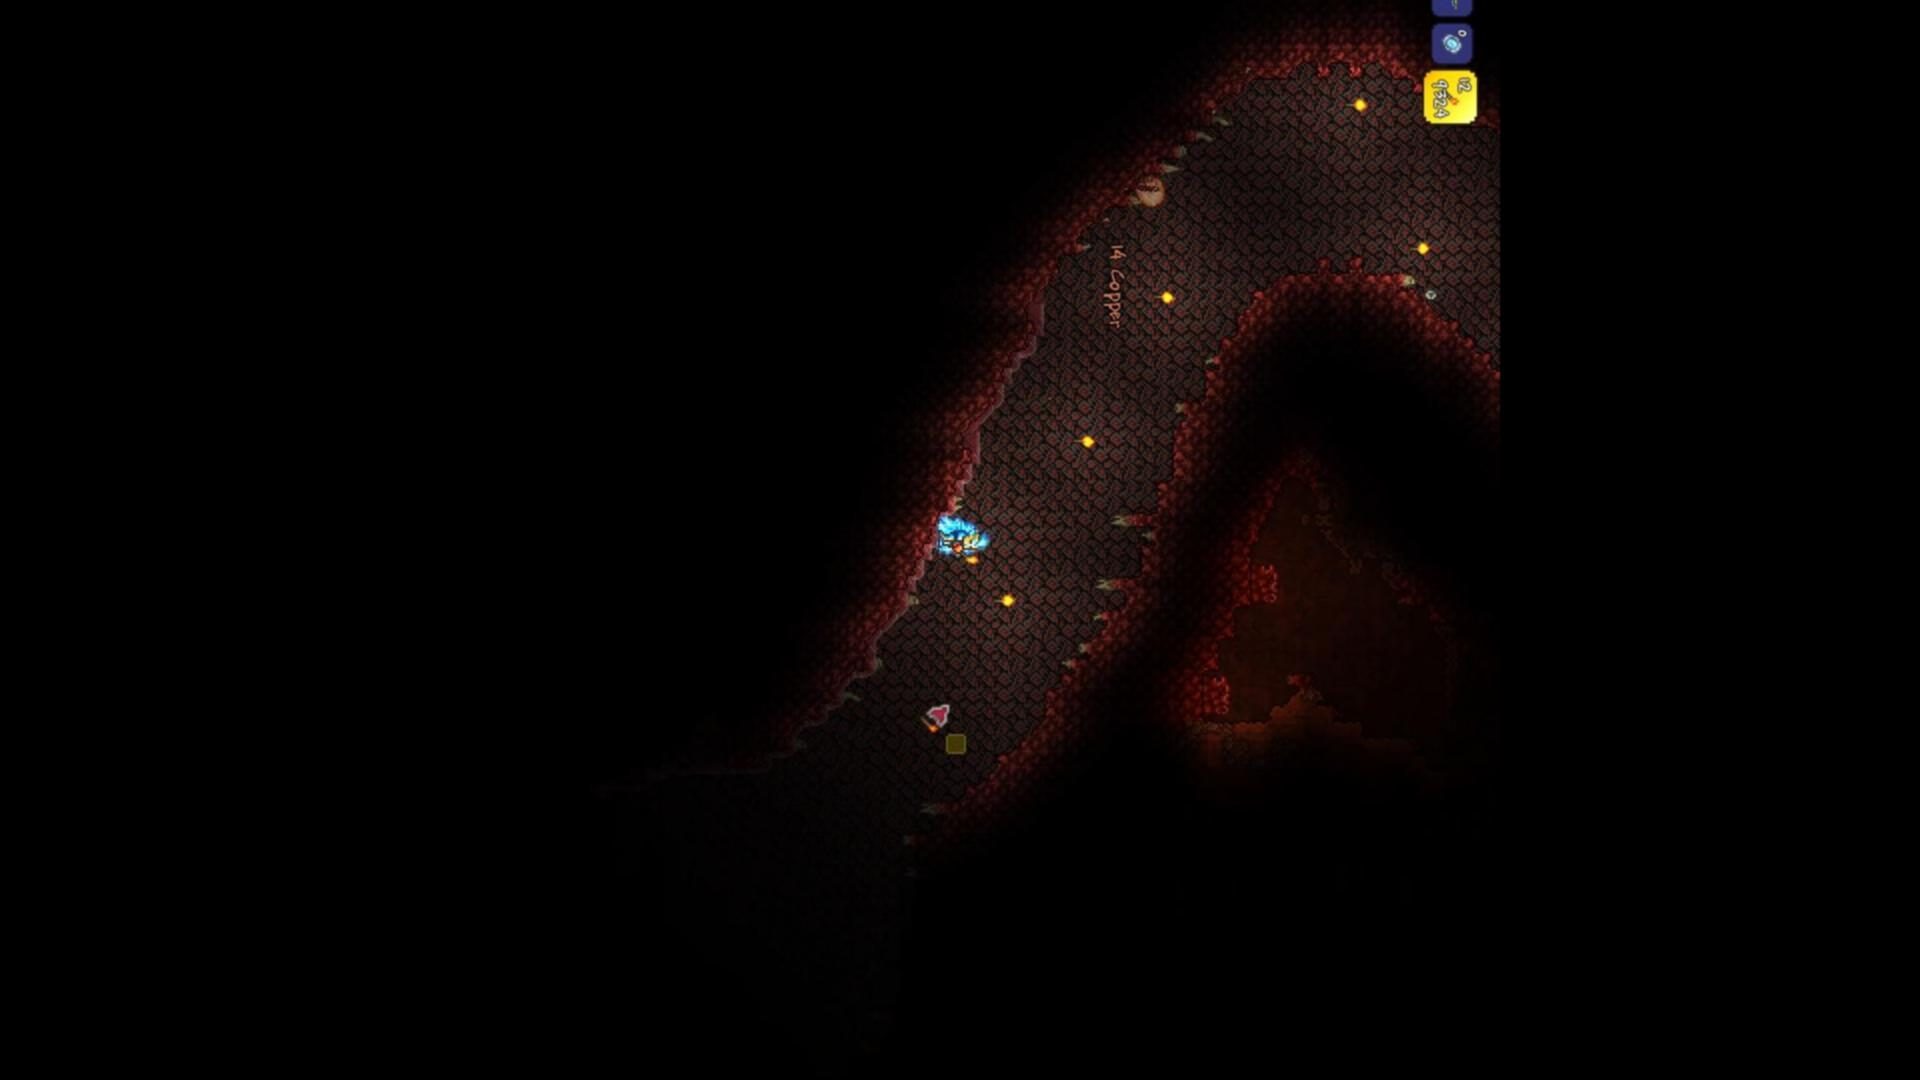altar: (1200, 674, 1240, 717), (1246, 562, 1284, 607)
